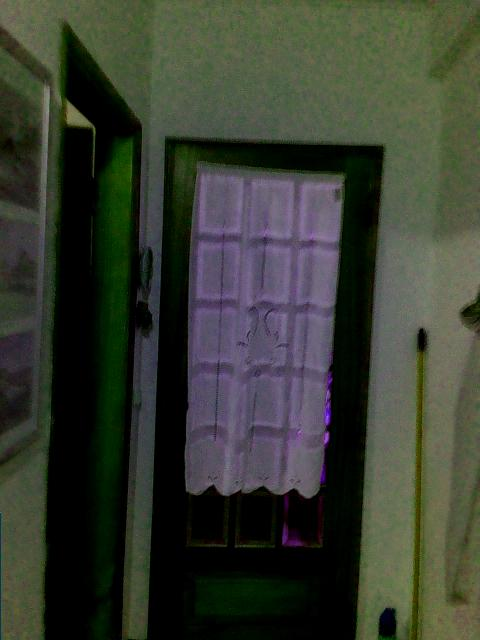closed_door: (146, 137, 384, 639)
